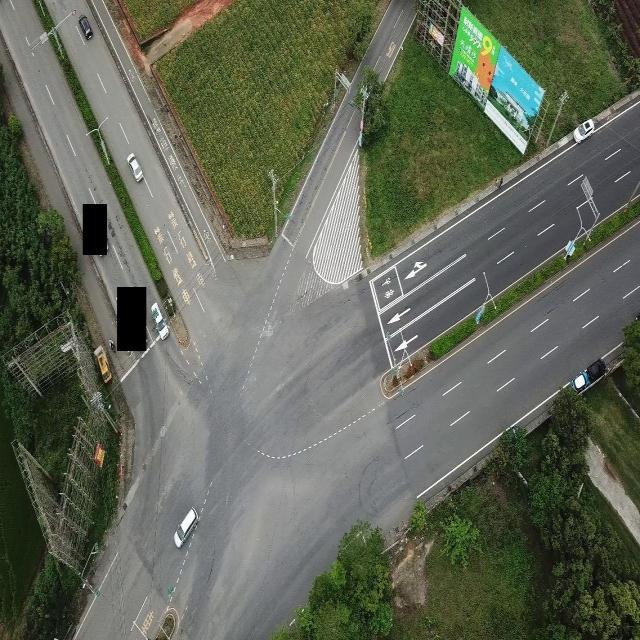car: (174, 507, 198, 547), (151, 300, 168, 340), (126, 151, 144, 182), (573, 117, 596, 141), (587, 359, 606, 383), (569, 372, 587, 395), (79, 14, 92, 39)
